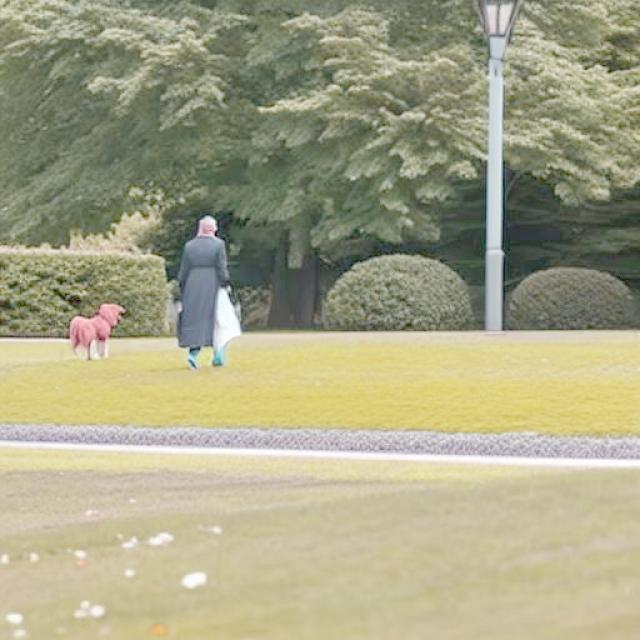Unleashed_Dog: (68, 304, 226, 362)
